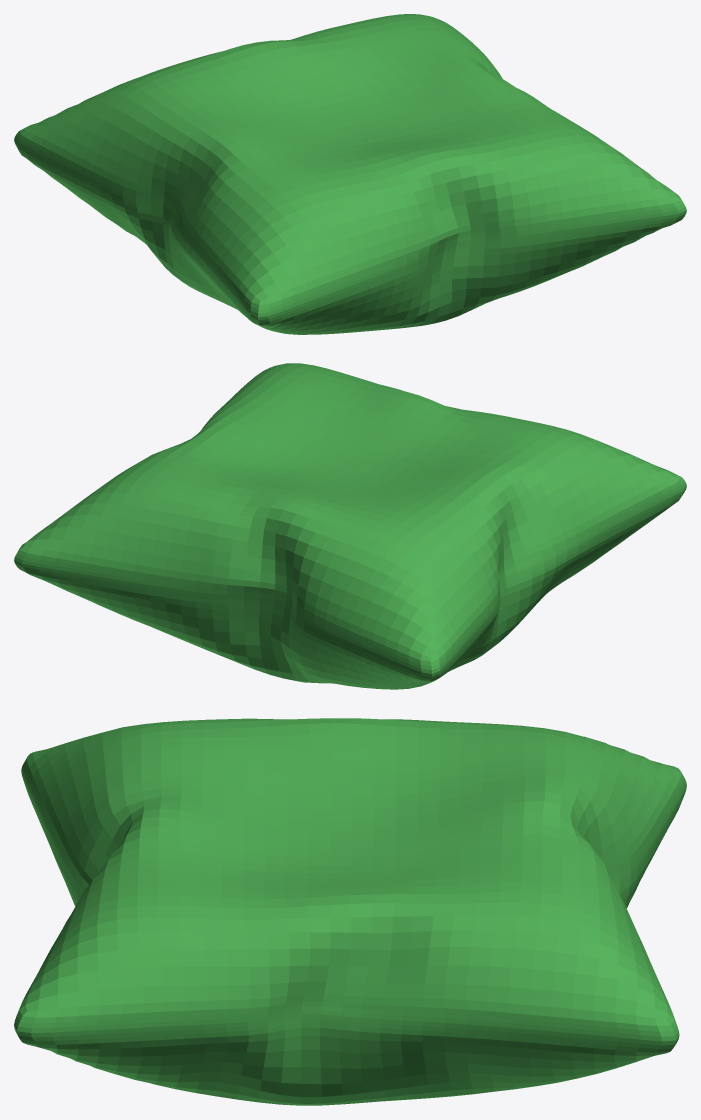
Rendered from armut_1.fbx.
The picture shows the model from 3 angles, top to bottom: view 1: azimuth 30°, elevation 25°; view 2: azimuth 150°, elevation 25°; view 3: azimuth 270°, elevation 25°; orthographic projection. The views are drawn at different scales.
Parts seen in each view (by area): view 1: Armut_1; view 2: Armut_1; view 3: Armut_1.
Boxes of the visible parts, box(x1,y1,x2,y2) form: Armut_1: box(14, 14, 686, 334); Armut_1: box(14, 363, 686, 689); Armut_1: box(14, 718, 686, 1105).
Size of the model in its own units: 192 by 78.42 by 195.
